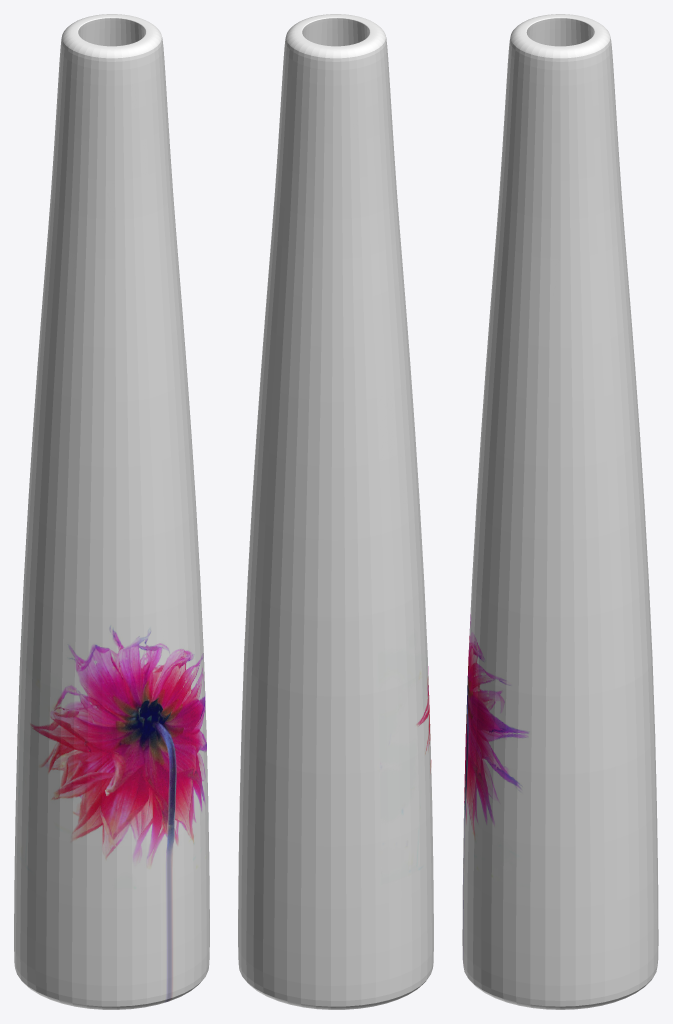
Rendered from jemina.dae.
The picture shows the model from 3 angles, left to right: view 1: azimuth 30°, elevation 25°; view 2: azimuth 150°, elevation 25°; view 3: azimuth 270°, elevation 25°; orthographic projection.
Parts seen in each view (by area): view 1: JEMINA_vas; view 2: JEMINA_vas; view 3: JEMINA_vas.
Part boxes in pixels (x1,y1,x2,y2): JEMINA_vas: [14, 14, 209, 1009]; JEMINA_vas: [238, 14, 433, 1009]; JEMINA_vas: [462, 14, 658, 1009].
Size of the model in its own units: 0.2342 by 0.234 by 1.24.
Materials: 1 (1 with a texture image).
